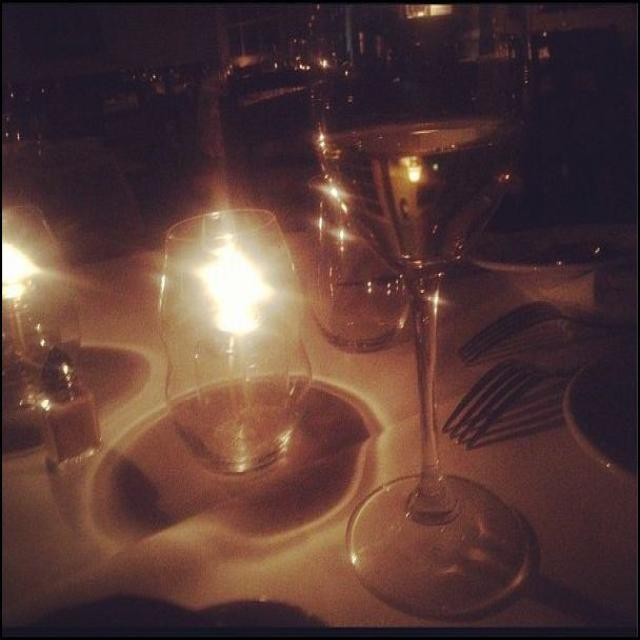Cup: (323, 65, 530, 625), (139, 200, 309, 505), (0, 176, 82, 395)
